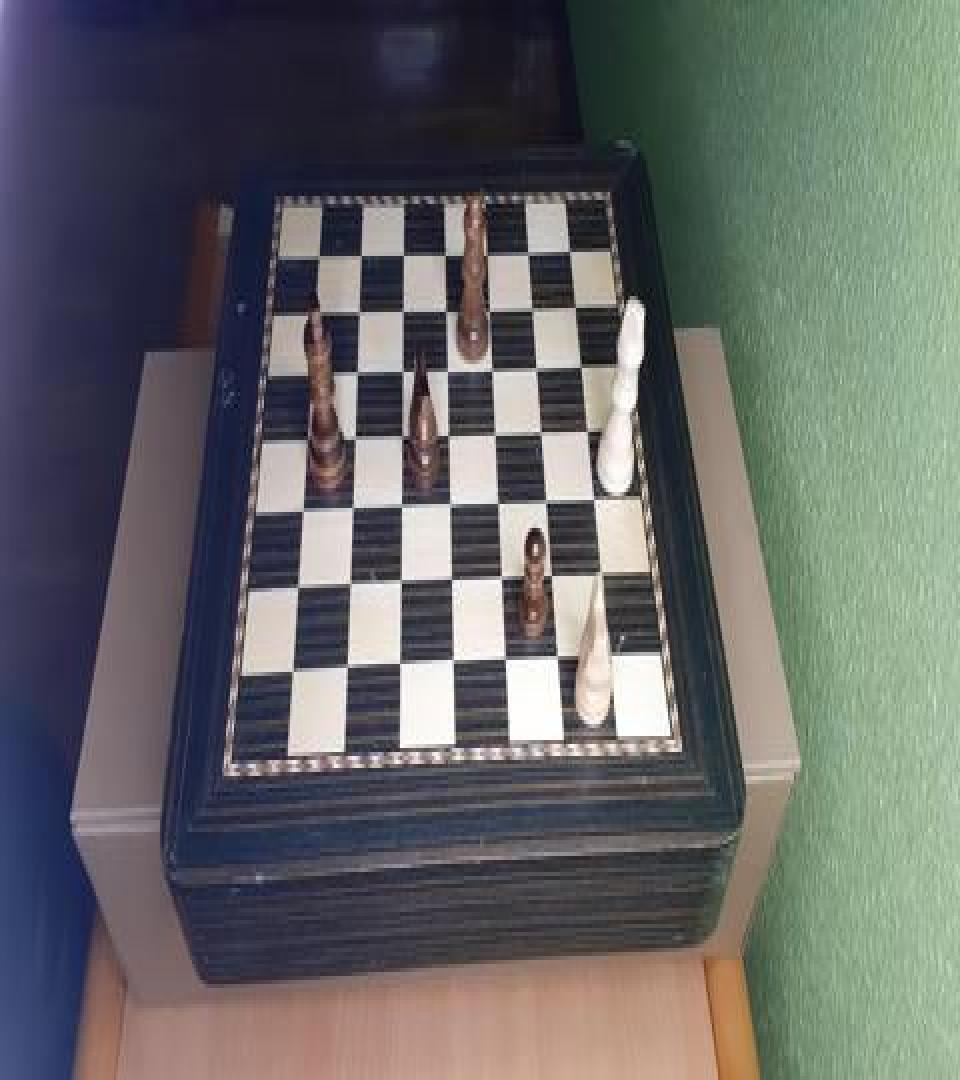xcorner: (312, 240, 324, 264), (309, 298, 321, 322), (304, 360, 316, 384), (300, 426, 312, 450), (295, 498, 307, 522), (290, 576, 302, 600), (284, 662, 296, 686), (356, 240, 368, 264), (354, 296, 366, 320), (351, 358, 363, 382), (349, 424, 361, 448), (346, 496, 358, 520), (343, 574, 355, 598), (340, 658, 352, 682), (399, 238, 411, 262), (398, 296, 410, 320), (398, 356, 410, 380), (397, 422, 409, 446), (396, 494, 408, 518), (395, 572, 407, 596), (394, 656, 406, 680), (442, 238, 454, 262), (443, 294, 455, 318), (444, 356, 456, 380), (445, 422, 457, 446), (446, 492, 458, 516), (447, 570, 459, 594), (448, 654, 460, 678), (484, 238, 496, 262), (487, 294, 499, 318), (489, 354, 501, 378), (492, 420, 504, 444), (495, 490, 507, 514), (499, 568, 511, 592), (502, 650, 514, 674), (527, 236, 539, 260), (531, 292, 543, 316), (535, 354, 547, 378), (539, 418, 551, 442), (544, 488, 556, 512), (549, 564, 561, 588), (555, 648, 567, 672), (568, 236, 580, 260), (574, 292, 586, 316), (580, 352, 592, 376), (586, 416, 598, 440), (593, 486, 605, 510), (600, 562, 612, 586), (608, 644, 620, 668)
